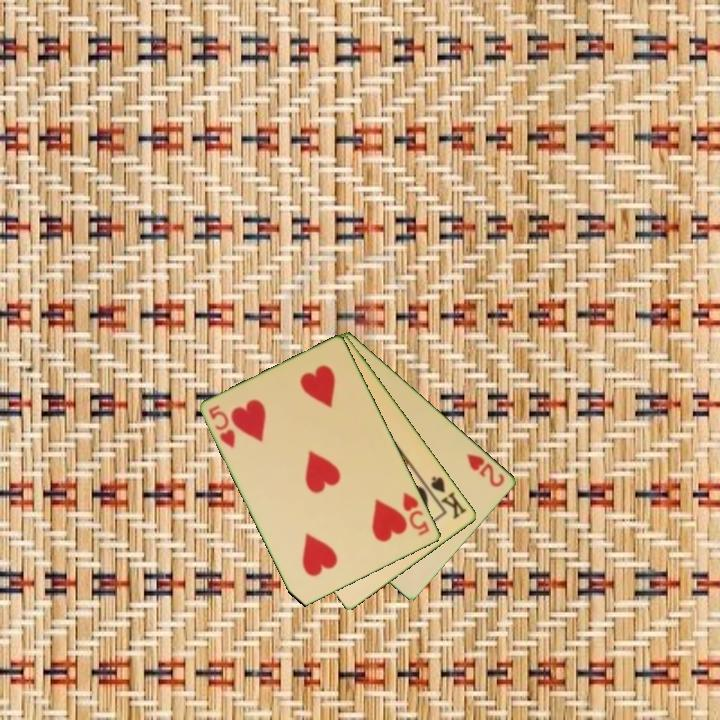2h: (463, 450, 508, 490)
5h: (399, 489, 433, 539), (205, 402, 239, 451)
Ks: (427, 473, 470, 522)
